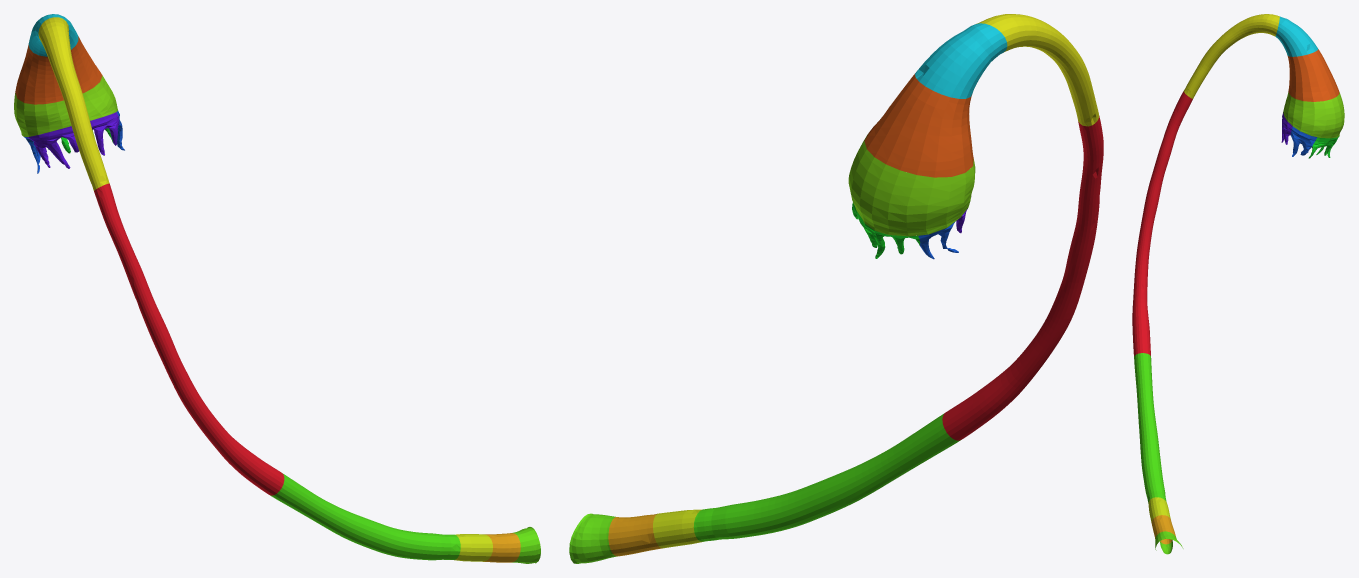
File: fallopian-tube-female-right-upenn.glb
3 renders of one model, left to right at view 1: azimuth 30°, elevation 25°; view 2: azimuth 150°, elevation 25°; view 3: azimuth 270°, elevation 25°, orthographic. The views are drawn at different scales.
Parts seen in each view (by area): view 1: world; view 2: world; view 3: world.
Boxes of the visible parts, x1,y1,x2,y2 form: world: (14,14,540,563); world: (569,14,1103,563); world: (1132,14,1344,554).
Size of the model in its own units: 0.0342 by 0.0444 by 0.0208.
